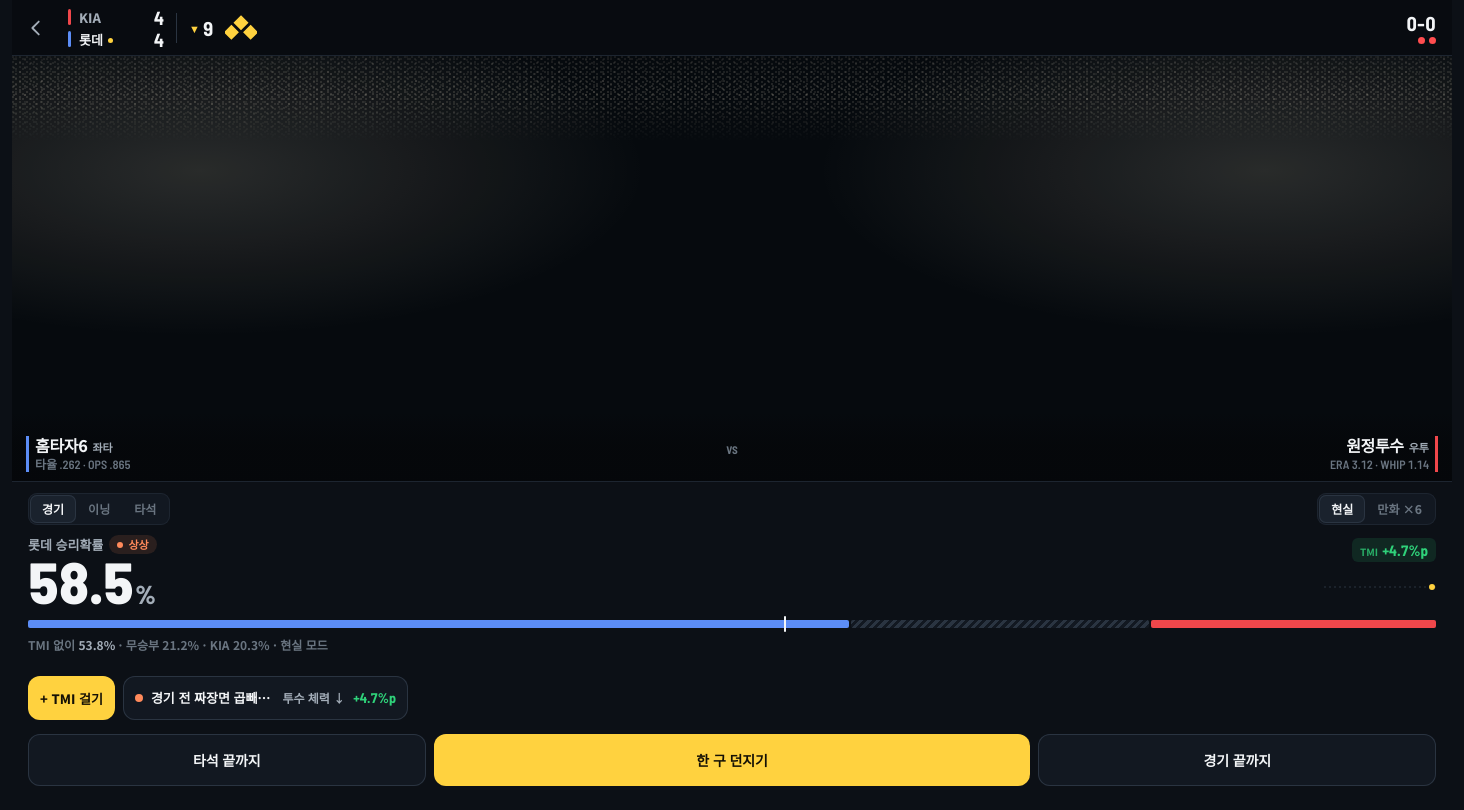
Test: PlayScreen 해설 자막 — 실제 재생 › 타석 끝까지로 한 타석을 치르면 자막이 붙는다
The image size is (1464, 810).
Expected: the element labelled "58.5%" is shown, [28,555,157,608]
Click the button "타석 끝까지": {"x": 227, "y": 760} [28,734,426,786]
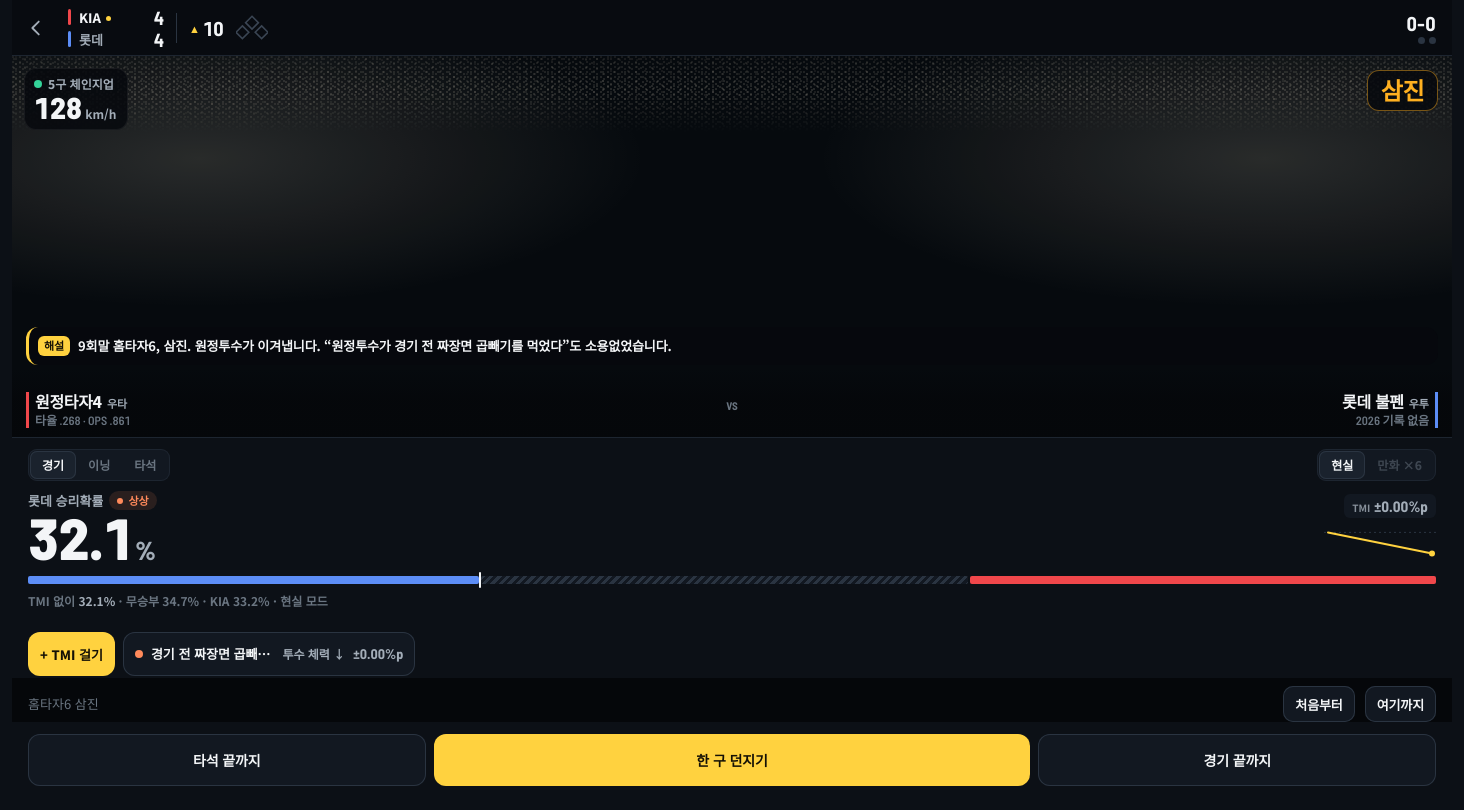
Result: the message "해설" shows "짜장면" at [78,336,672,355]
